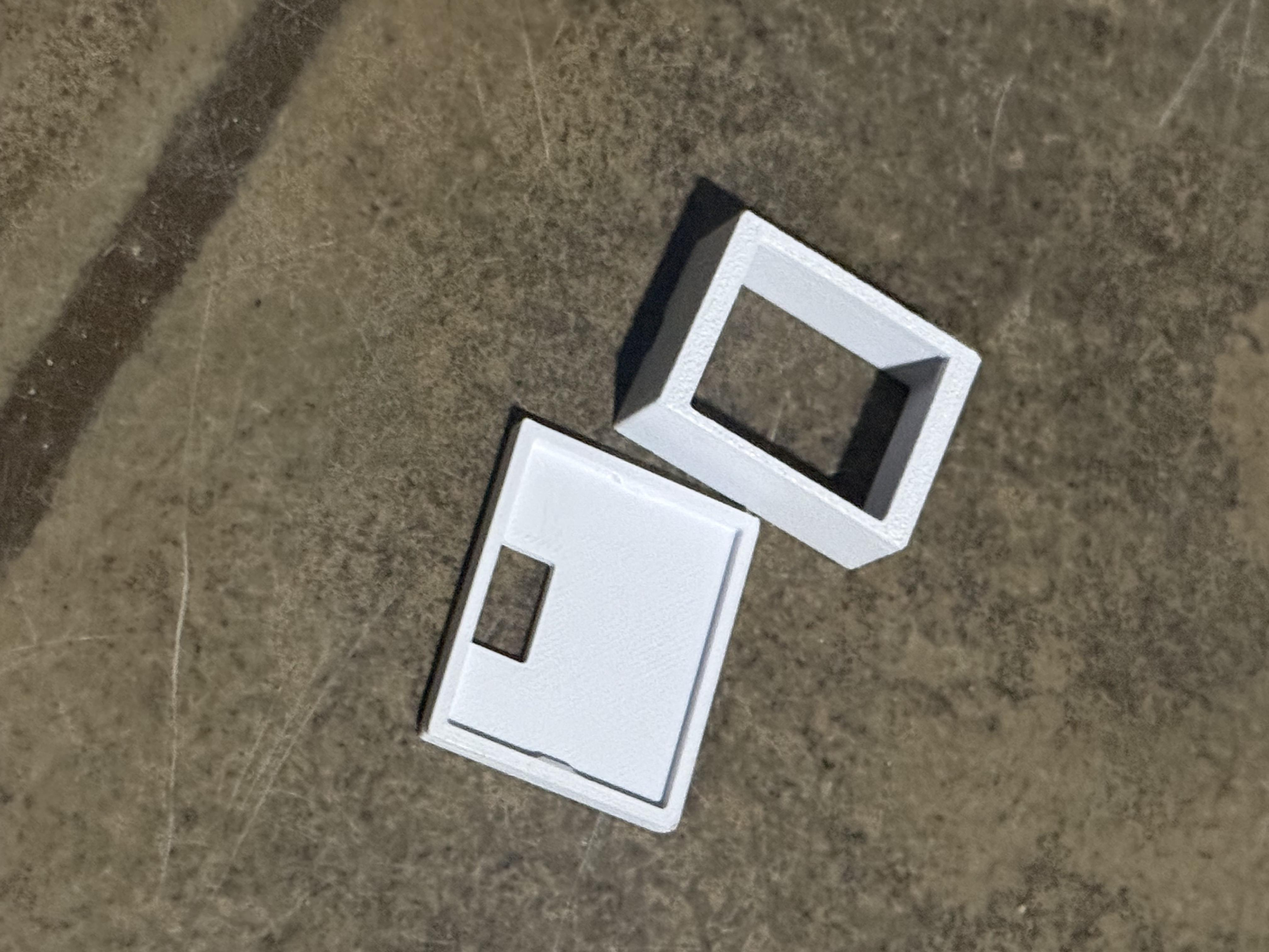enclosure: (418, 418, 761, 834), (612, 209, 983, 570)
